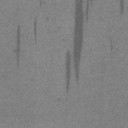red iron: (64, 0, 90, 94), (14, 26, 20, 66), (120, 0, 124, 14), (34, 18, 36, 44)
